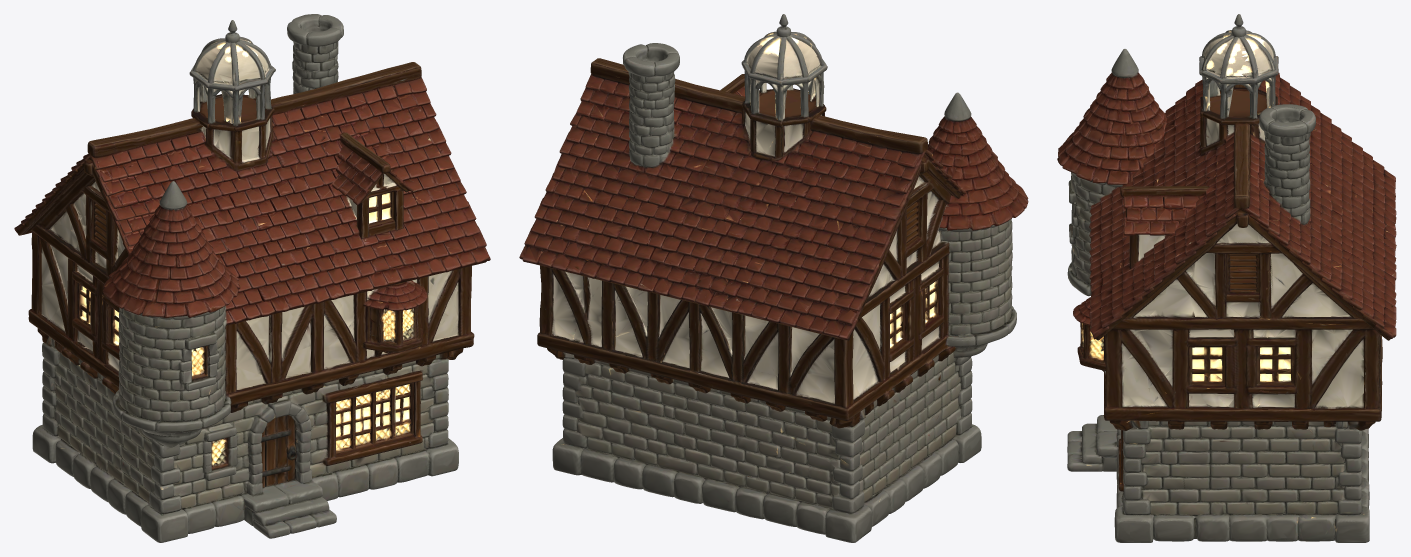
Rendered from OakHillPotionShop_300k.glb.
The picture shows the model from 3 angles, left to right: view 1: azimuth 30°, elevation 25°; view 2: azimuth 150°, elevation 25°; view 3: azimuth 270°, elevation 25°; orthographic projection.
Parts seen in each view (by area): view 1: Mesh_0; view 2: Mesh_0; view 3: Mesh_0.
Boxes of the visible parts, x1,y1,x2,y2 form: Mesh_0: (14, 14, 490, 542); Mesh_0: (519, 14, 1028, 542); Mesh_0: (1057, 14, 1396, 542).
Size of the model in its own units: 1.63 by 1.9 by 1.31.
Materials: 1 (1 with a texture image).
